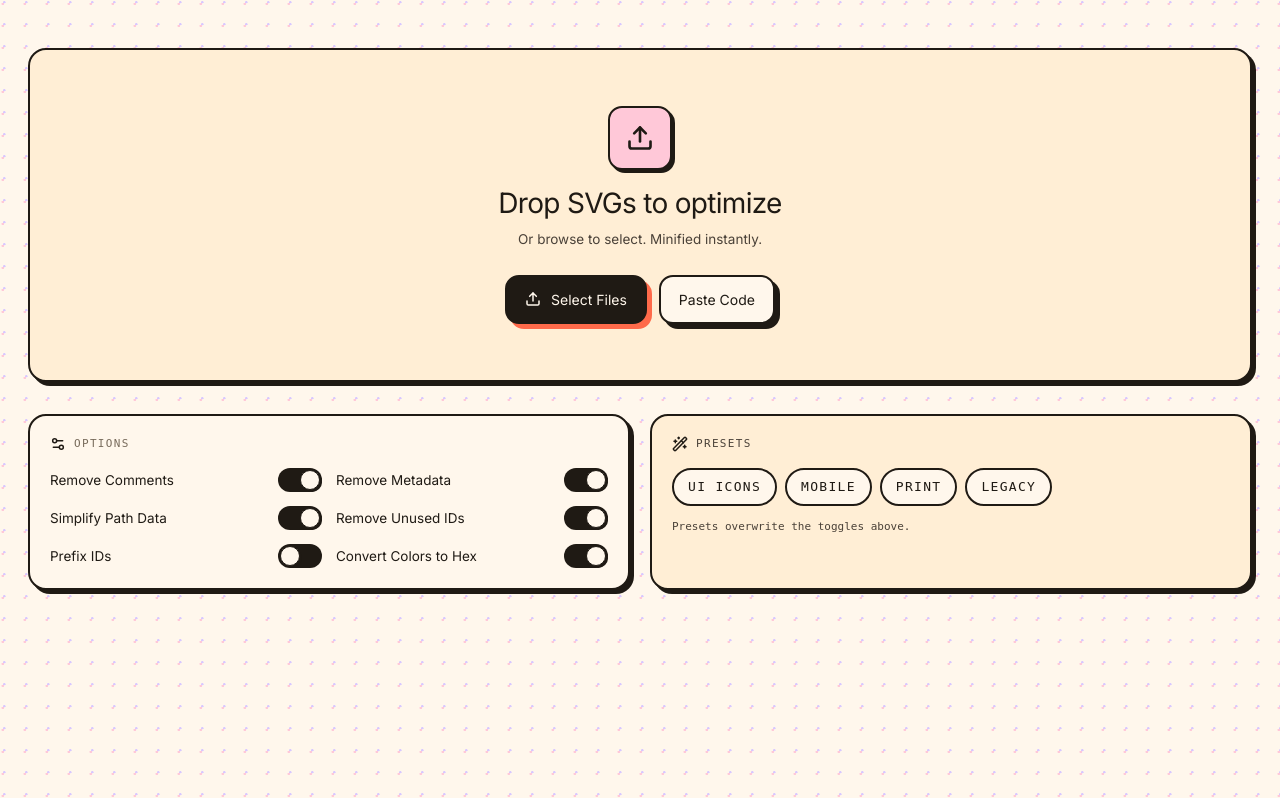
Scenario: SvgOptimizerRoute › adds pasted SVG to queue on Process
Click the button "Paste Code": (717, 299) [659,275,775,324]
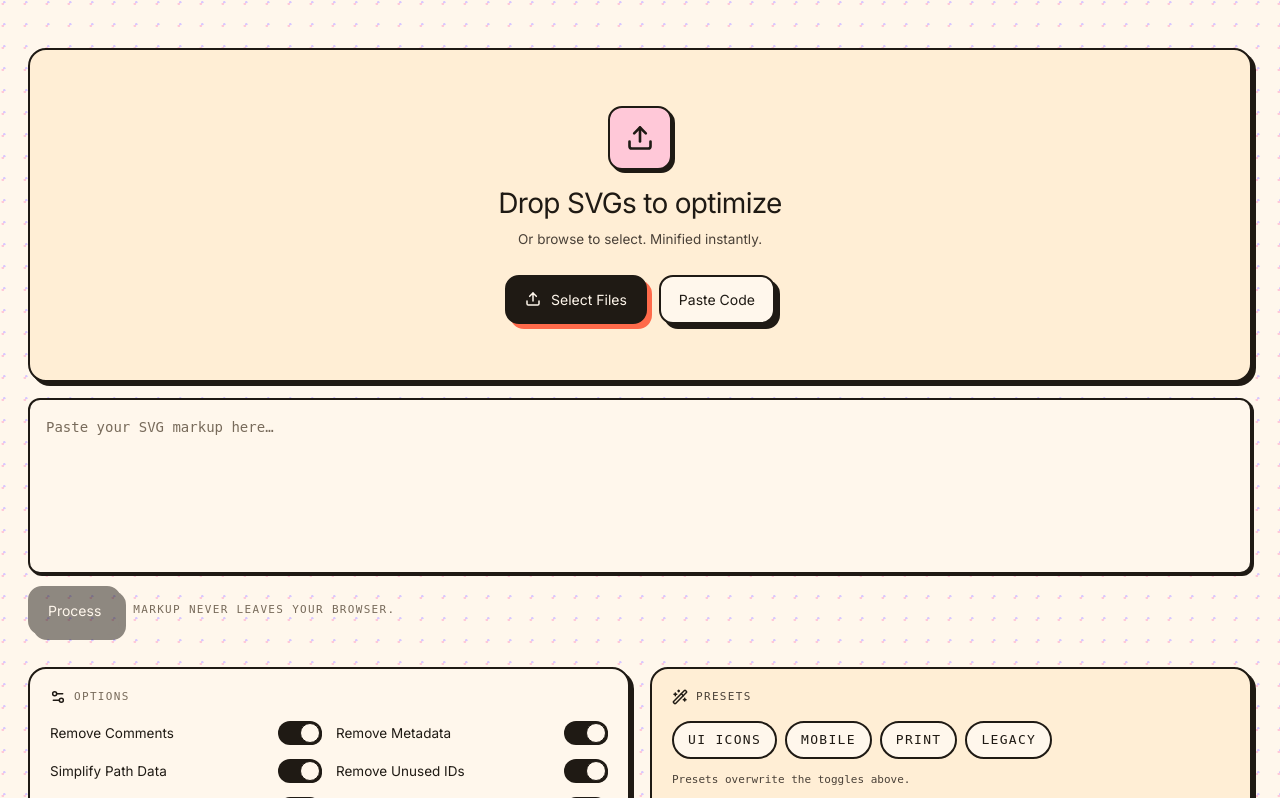
In the text box with test id "paste-textarea": (640, 486) [28,398,1252,574], type "<svg xmlns=\"http://www.w3.org/2000/svg\"><rect width=\"1\" height=\"1\"/></svg>"
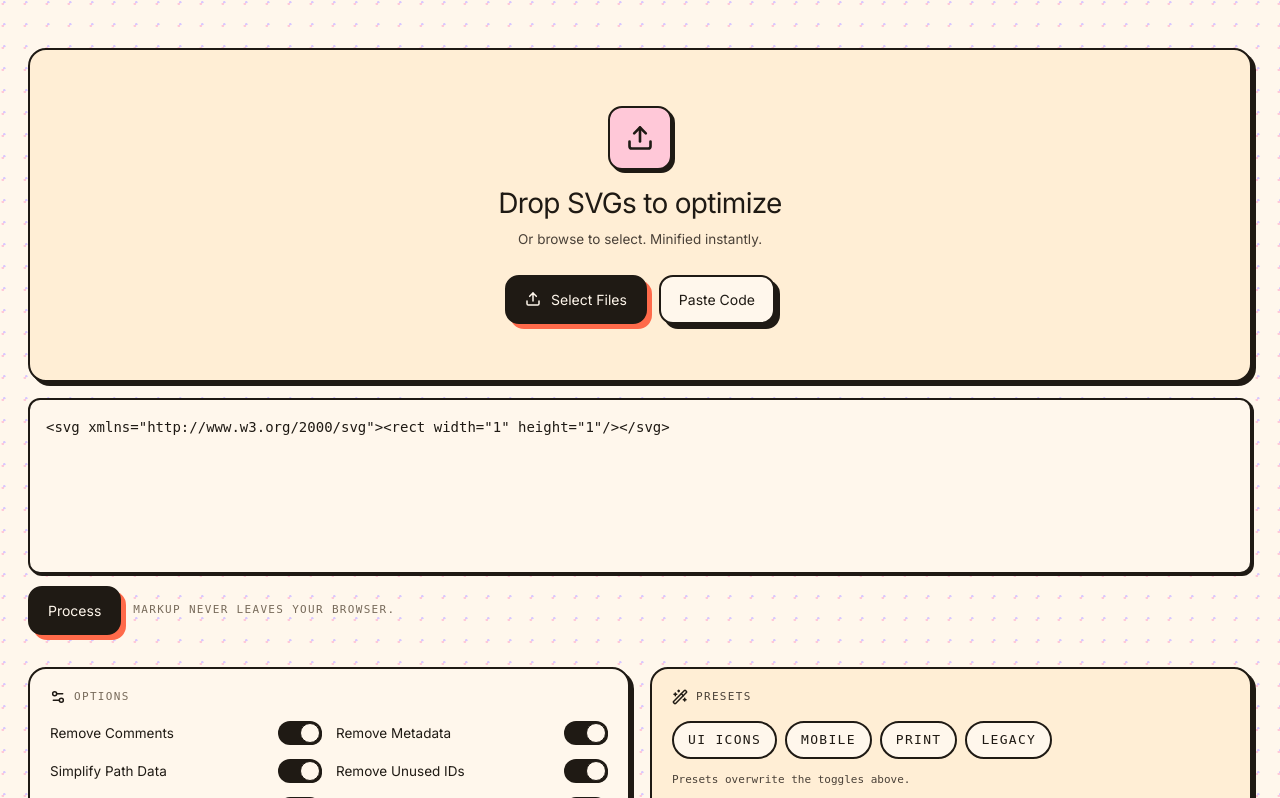
Click the button "Process": (75, 610) [28,586,121,635]
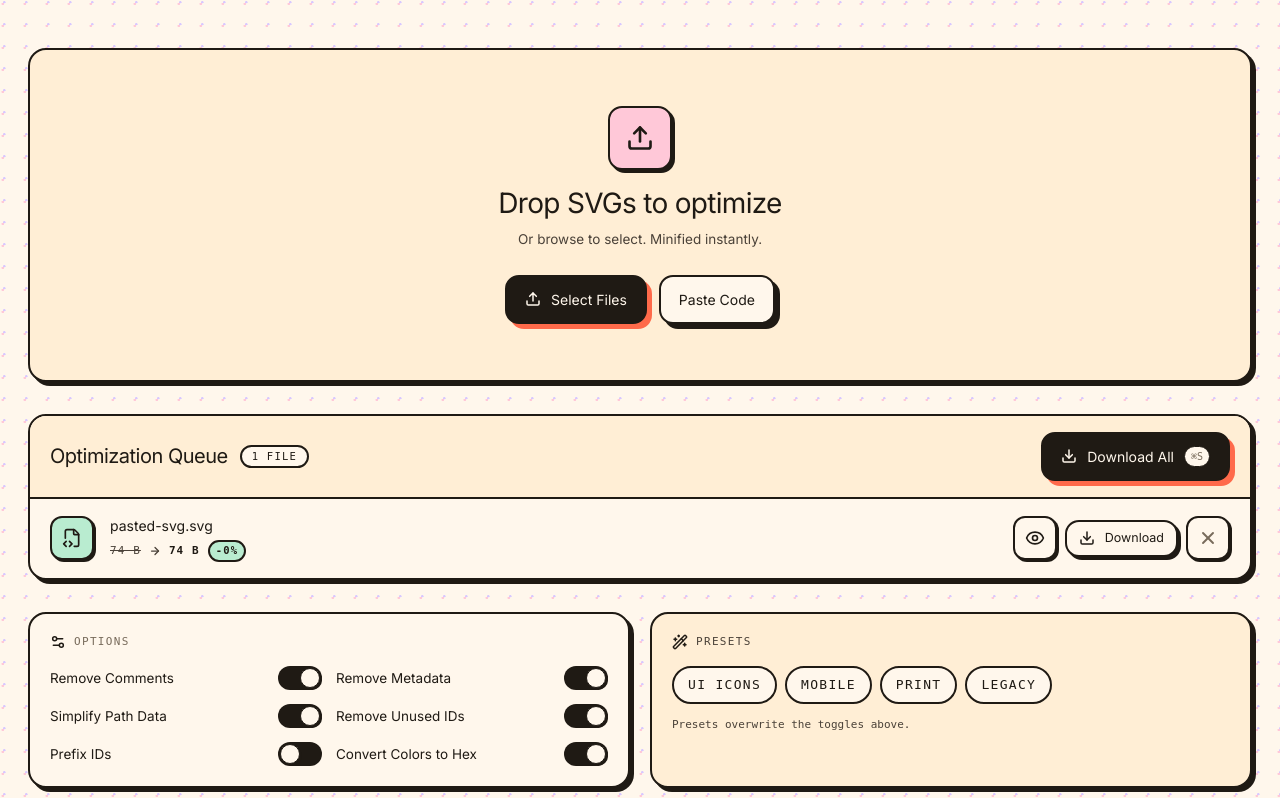
Expected: the text "pasted-svg.svg" is shown, [110,517,213,534]
